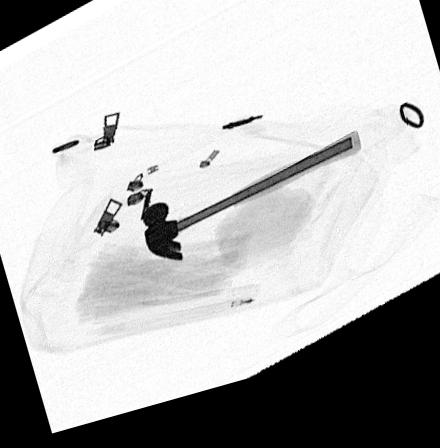Hammer: (142, 149, 362, 271)
